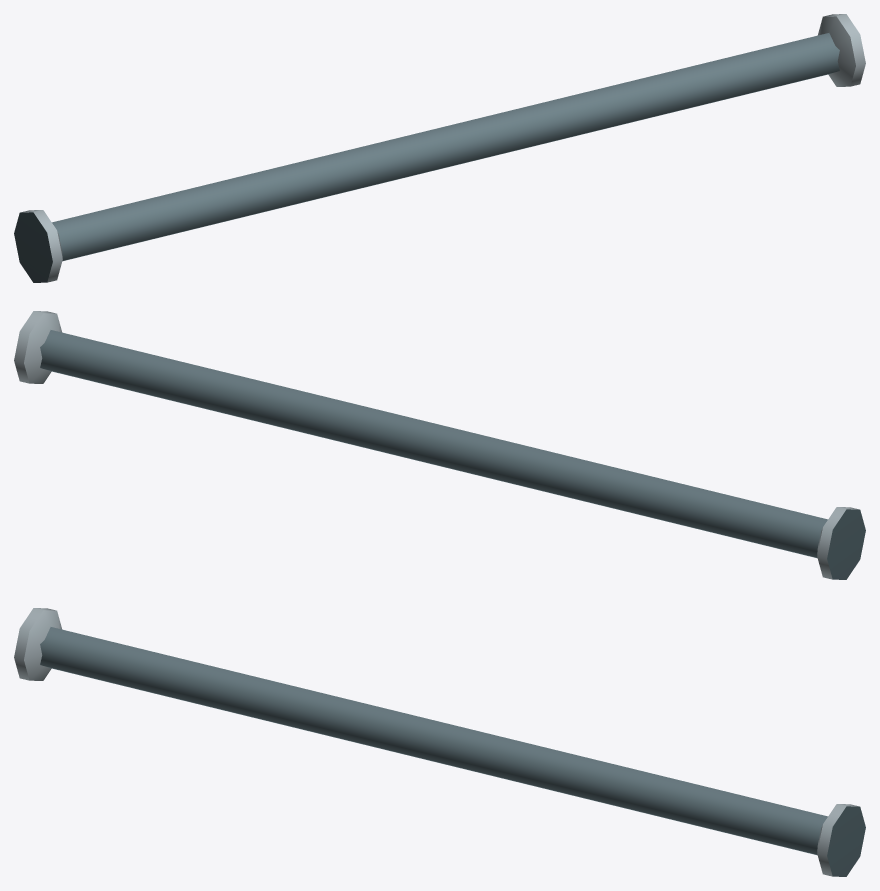
File: Pipe_002.fbx
The picture shows the model from 3 angles, top to bottom: view 1: azimuth 30°, elevation 25°; view 2: azimuth 150°, elevation 25°; view 3: azimuth 330°, elevation 25°; orthographic projection.
Visible parts, largest first — view 1: Pipe_002; view 2: Pipe_002; view 3: Pipe_002.
Part boxes in pixels (x1,y1,x2,y2): Pipe_002: [14, 14, 865, 282]; Pipe_002: [14, 311, 865, 579]; Pipe_002: [14, 608, 865, 876].
Bounding box in the file's own units: 307 × 25.5 × 25.5.
